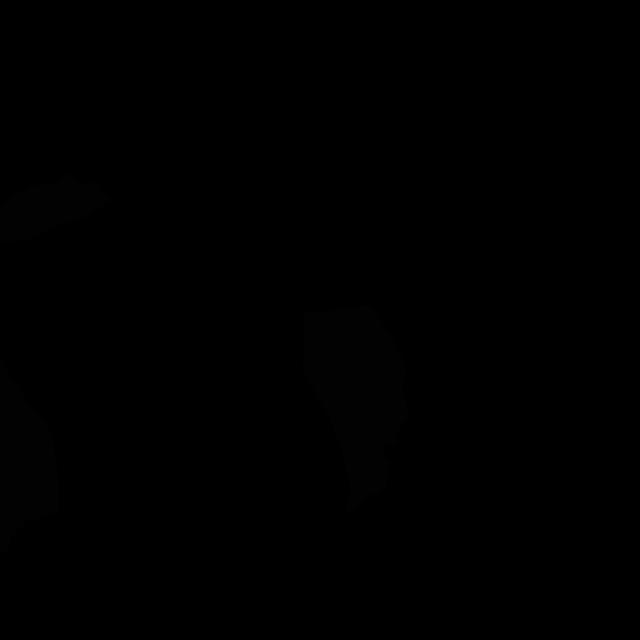cardboard: (303, 305, 408, 516), (0, 359, 59, 556), (0, 173, 112, 242)
